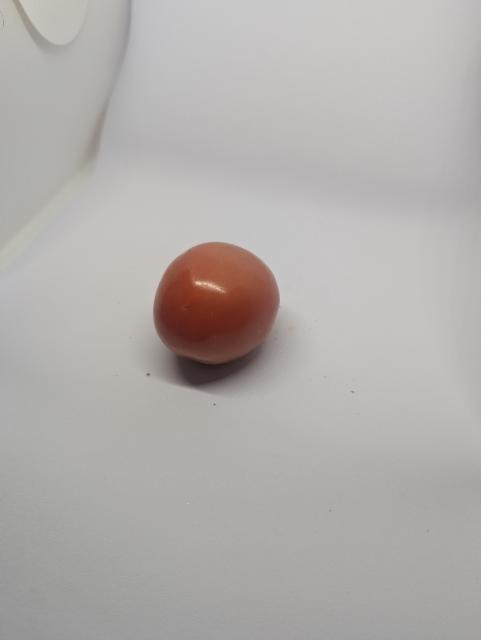red: (123, 207, 296, 389)
